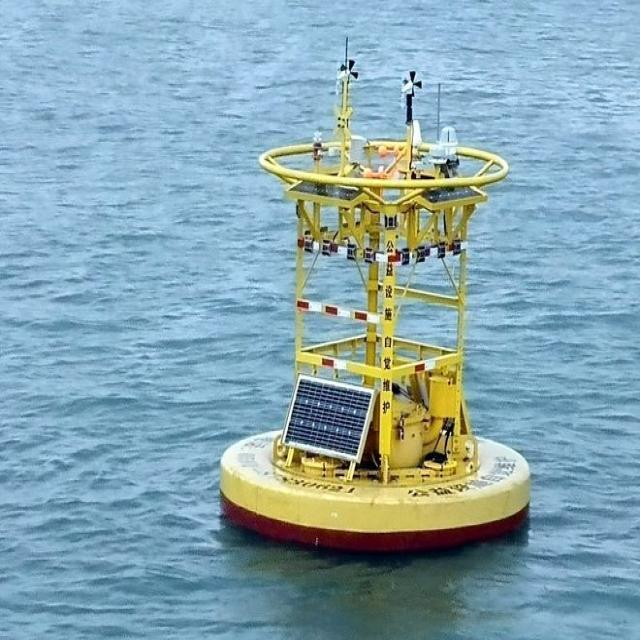houseboat: (208, 27, 534, 551)
